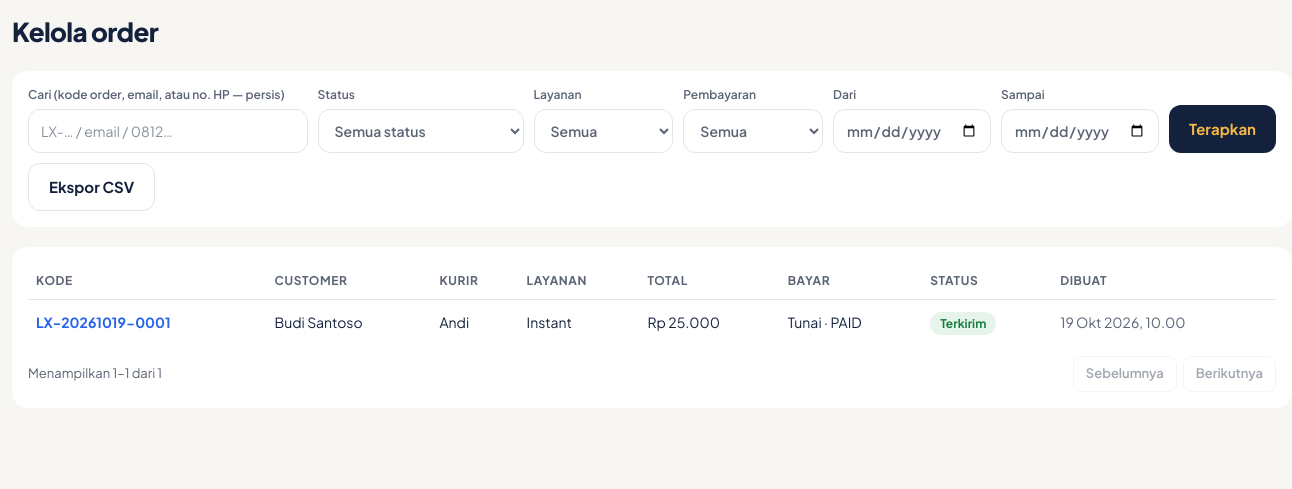
Test: ekspor gagal → pesan error backend ditampilkan
Check: the link "LX-20261019-0001" is shown, box left=36, top=313, right=171, bottom=331
What coordinates should you click on to do the following:
click the button "Ekspor CSV"
I would click on:
 (92, 187)
Its box is left=28, top=163, right=155, bottom=211.
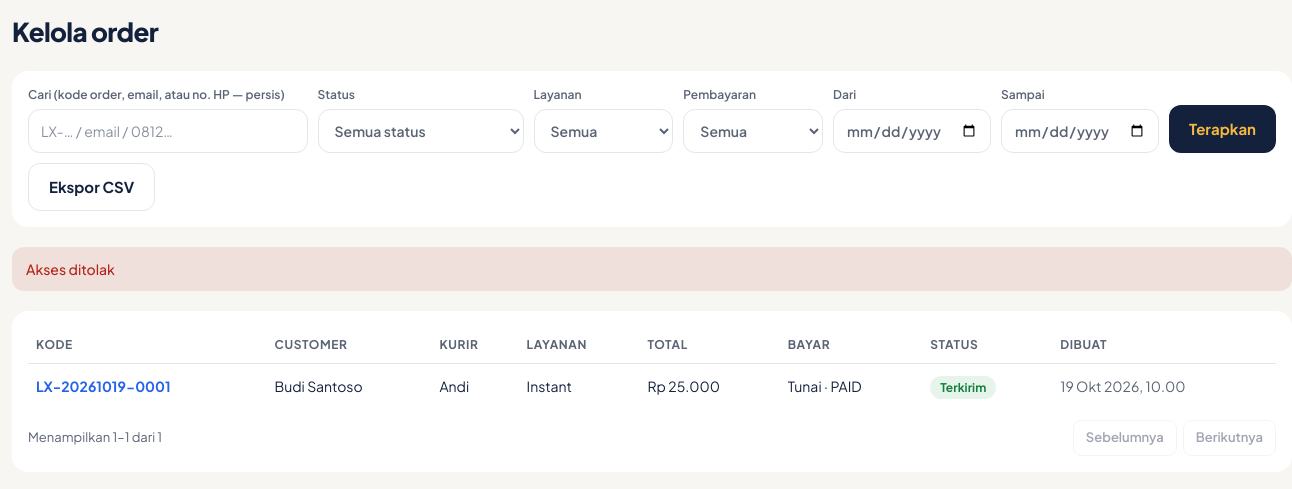
Check: the text "Akses ditolak" is shown, box left=12, top=247, right=1291, bottom=291
